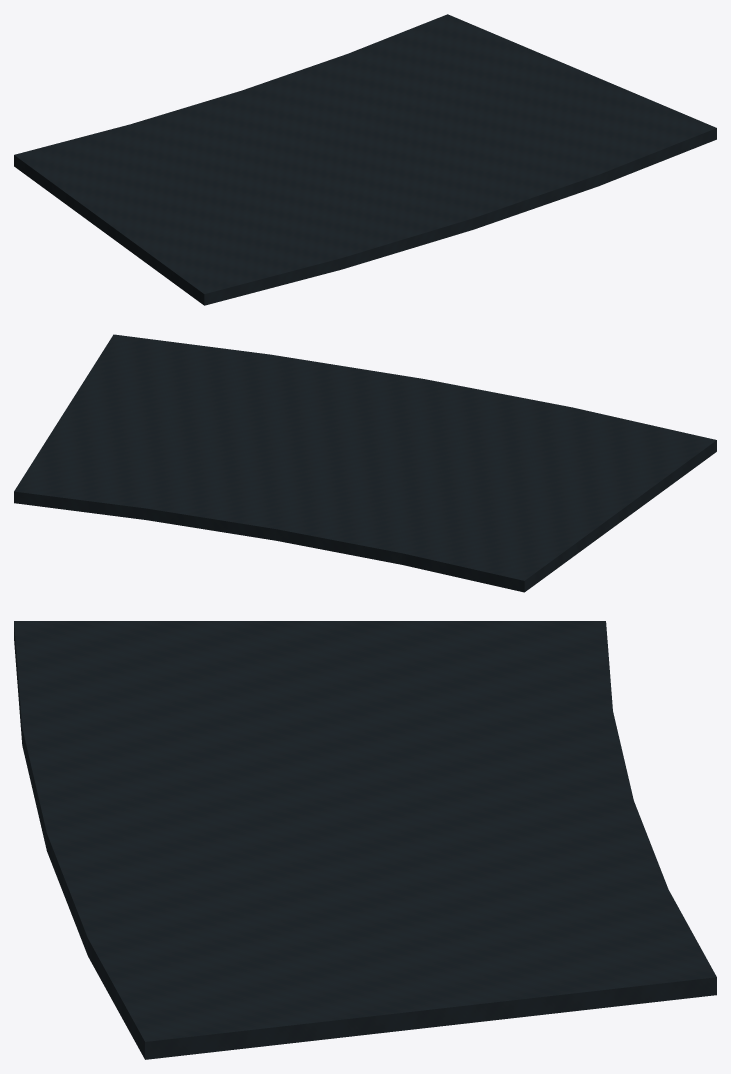
The model's file is Transit_Road_2L_Curve15_R36_Surface.glb.
3 renders of one model, top to bottom at view 1: azimuth 30°, elevation 25°; view 2: azimuth 150°, elevation 25°; view 3: azimuth 270°, elevation 25°, orthographic. The views are drawn at different scales.
Parts seen in each view (by area): view 1: Transit_Road_2L_Curve15_R36_Surface; view 2: Transit_Road_2L_Curve15_R36_Surface; view 3: Transit_Road_2L_Curve15_R36_Surface.
Part boxes in pixels (box(x1,y1,x2,y2)): Transit_Road_2L_Curve15_R36_Surface: box(14, 14, 716, 305); Transit_Road_2L_Curve15_R36_Surface: box(14, 334, 716, 592); Transit_Road_2L_Curve15_R36_Surface: box(14, 621, 716, 1059).
Size of the model in its own units: 10.09 by 0.2 by 7.12.
1 material, 1 textured.
